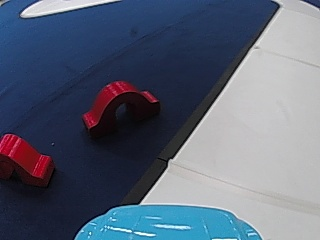bridge: (75, 77, 163, 137), (1, 130, 56, 188)
